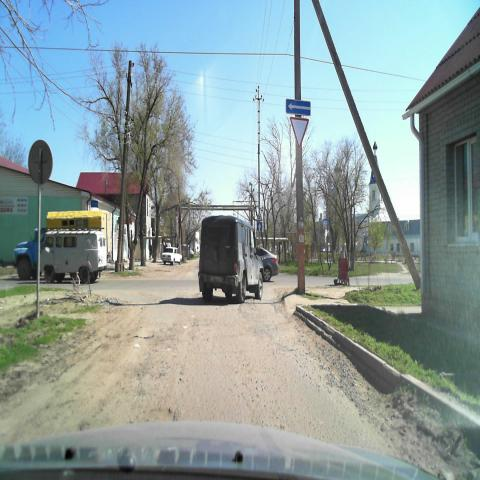5_7_2: (285, 98, 311, 115)
